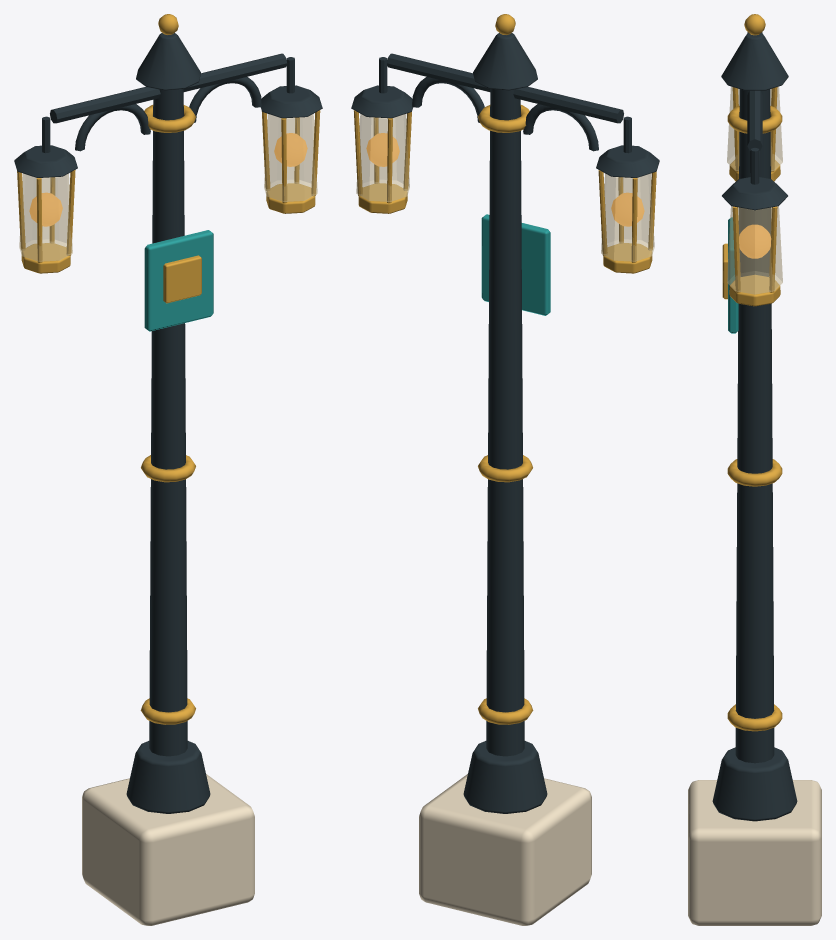
File: rt_lamp_twin.glb
3 views of the same model, side by side, from view 1: azimuth 30°, elevation 25°; view 2: azimuth 150°, elevation 25°; view 3: azimuth 270°, elevation 25° (orthographic).
Parts seen in each view (by area): view 1: rt_lamp_twin_body; view 2: rt_lamp_twin_body; view 3: rt_lamp_twin_body.
Part boxes in pixels (left/top/right/bottom): rt_lamp_twin_body: left=14, top=14, right=322, bottom=925; rt_lamp_twin_body: left=351, top=14, right=659, bottom=925; rt_lamp_twin_body: left=688, top=14, right=821, bottom=925.
Bounding box in the file's own units: 1.63 × 4.53 × 0.62.
